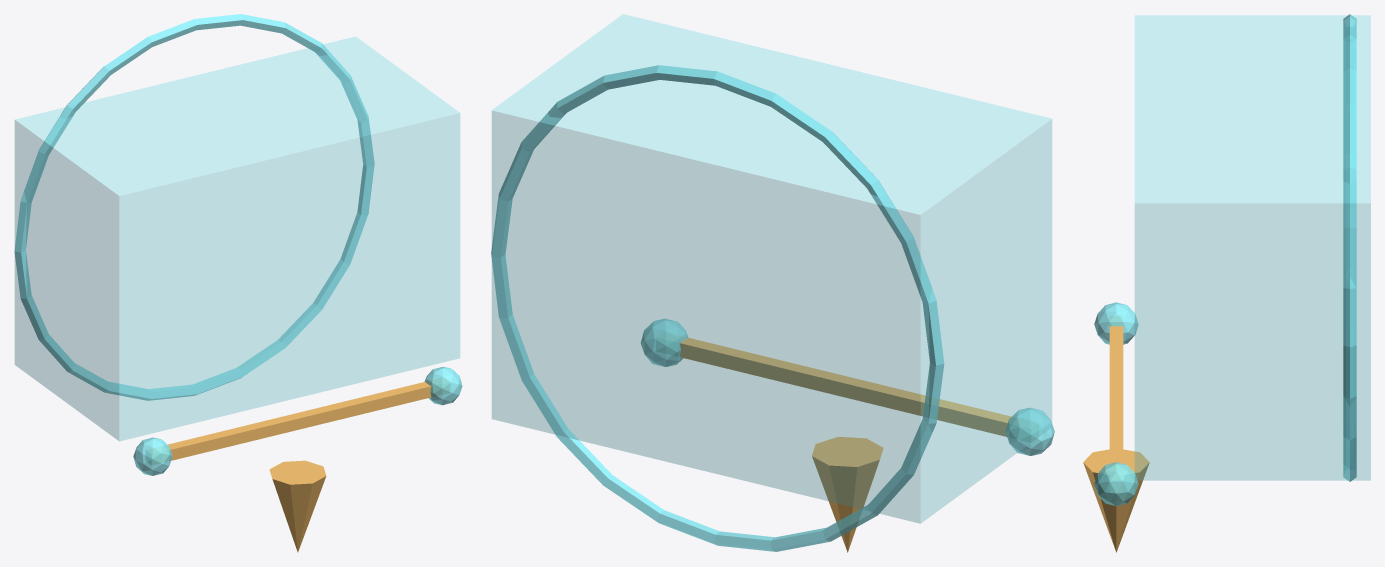
The model's file is 06_dynamic_combat_camera_trigger.glb.
The picture shows the model from 3 angles, left to right: view 1: azimuth 30°, elevation 25°; view 2: azimuth 150°, elevation 25°; view 3: azimuth 270°, elevation 25°; orthographic projection. The views are drawn at different scales.
Parts seen in each view (by area): view 1: combat_camera_volume, combat_start_ring, camera_rail, look_direction, camera_anchor_a, camera_anchor_b; view 2: combat_camera_volume, combat_start_ring, camera_rail, look_direction, camera_anchor_a, camera_anchor_b; view 3: combat_camera_volume, combat_start_ring, look_direction, camera_rail, camera_anchor_b, camera_anchor_a.
Part boxes in pixels (<box>): combat_camera_volume: <box>15,36,459,441</box>; combat_start_ring: <box>14,14,374,400</box>; camera_rail: <box>146,378,449,464</box>; look_direction: <box>269,460,326,552</box>; camera_anchor_a: <box>133,437,172,475</box>; camera_anchor_b: <box>424,366,462,405</box>; combat_camera_volume: <box>492,14,1051,523</box>; combat_start_ring: <box>491,65,944,551</box>; camera_rail: <box>679,337,1011,436</box>; look_direction: <box>812,436,883,552</box>; camera_anchor_a: <box>1005,407,1054,455</box>; camera_anchor_b: <box>641,318,687,366</box>; combat_camera_volume: <box>1135,15,1370,480</box>; combat_start_ring: <box>1343,14,1356,481</box>; look_direction: <box>1083,449,1149,552</box>; camera_rail: <box>1109,316,1123,492</box>; camera_anchor_b: <box>1094,462,1138,506</box>; camera_anchor_a: <box>1094,302,1138,344</box>.
Bounding box in the file's own units: 1.69 × 2.06 × 1.03.
